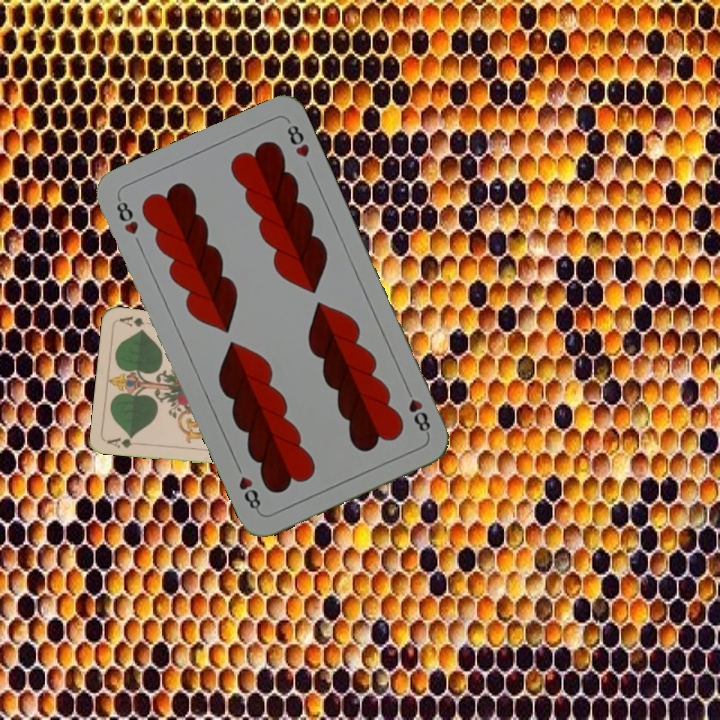GA: (104, 432, 135, 451)
H8: (401, 382, 433, 438), (112, 193, 141, 238)
